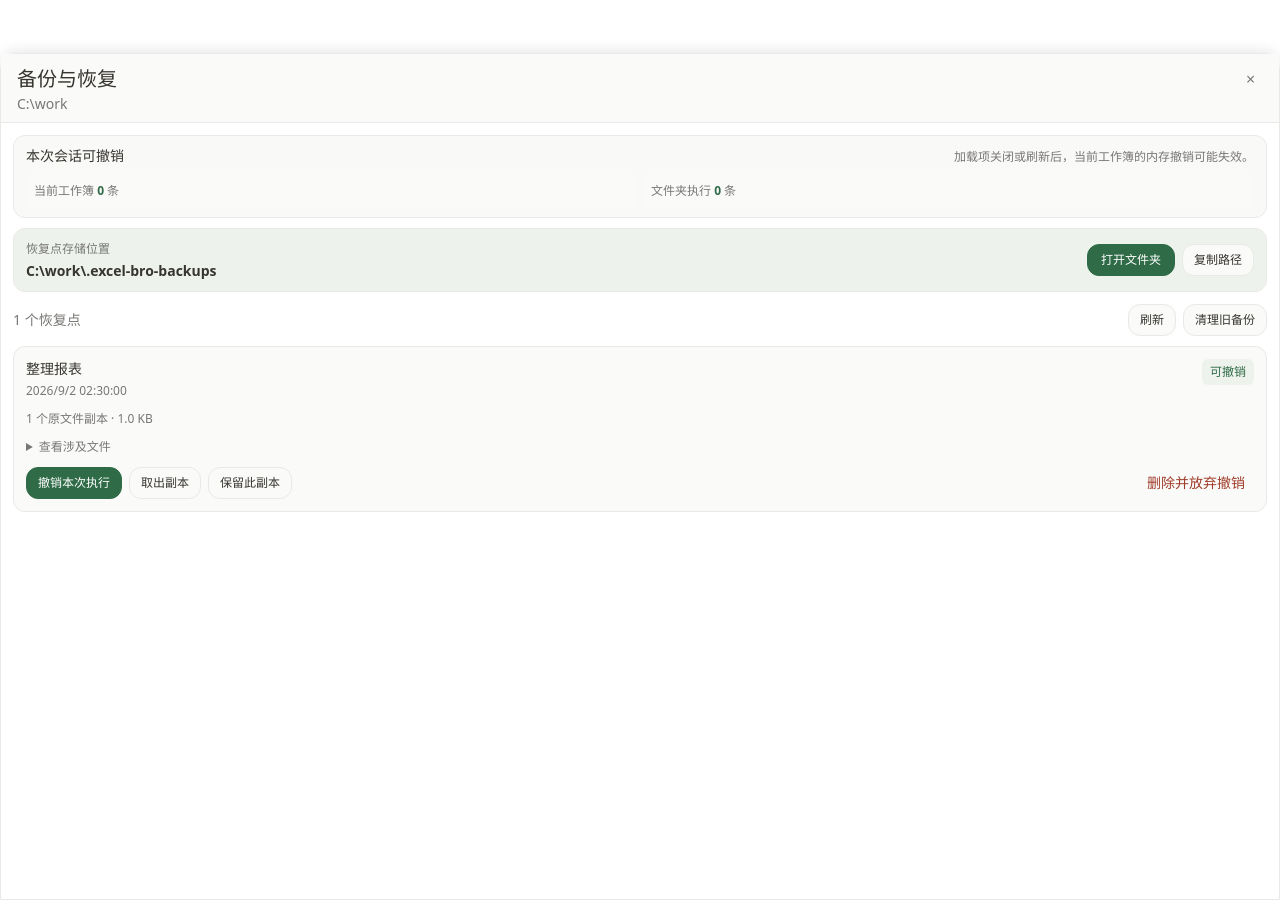
Scenario: FolderBackupManager › can cancel an inline backup deletion confirmation
Click the button "删除并放弃撤销" at (1196, 483), box 1138,467 -> 1254,499
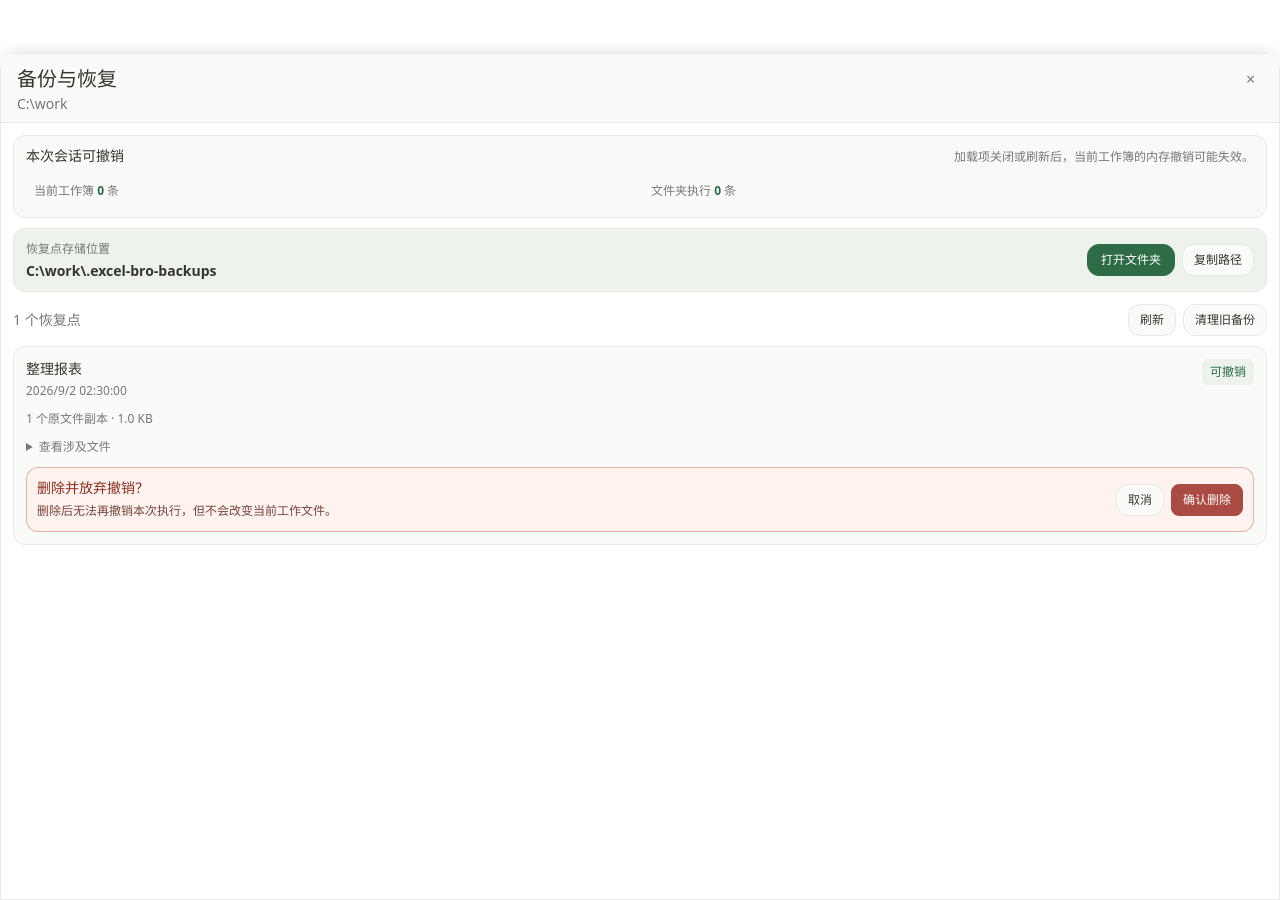
Click the button "取消" at (1140, 500), box 1116,484 -> 1164,516
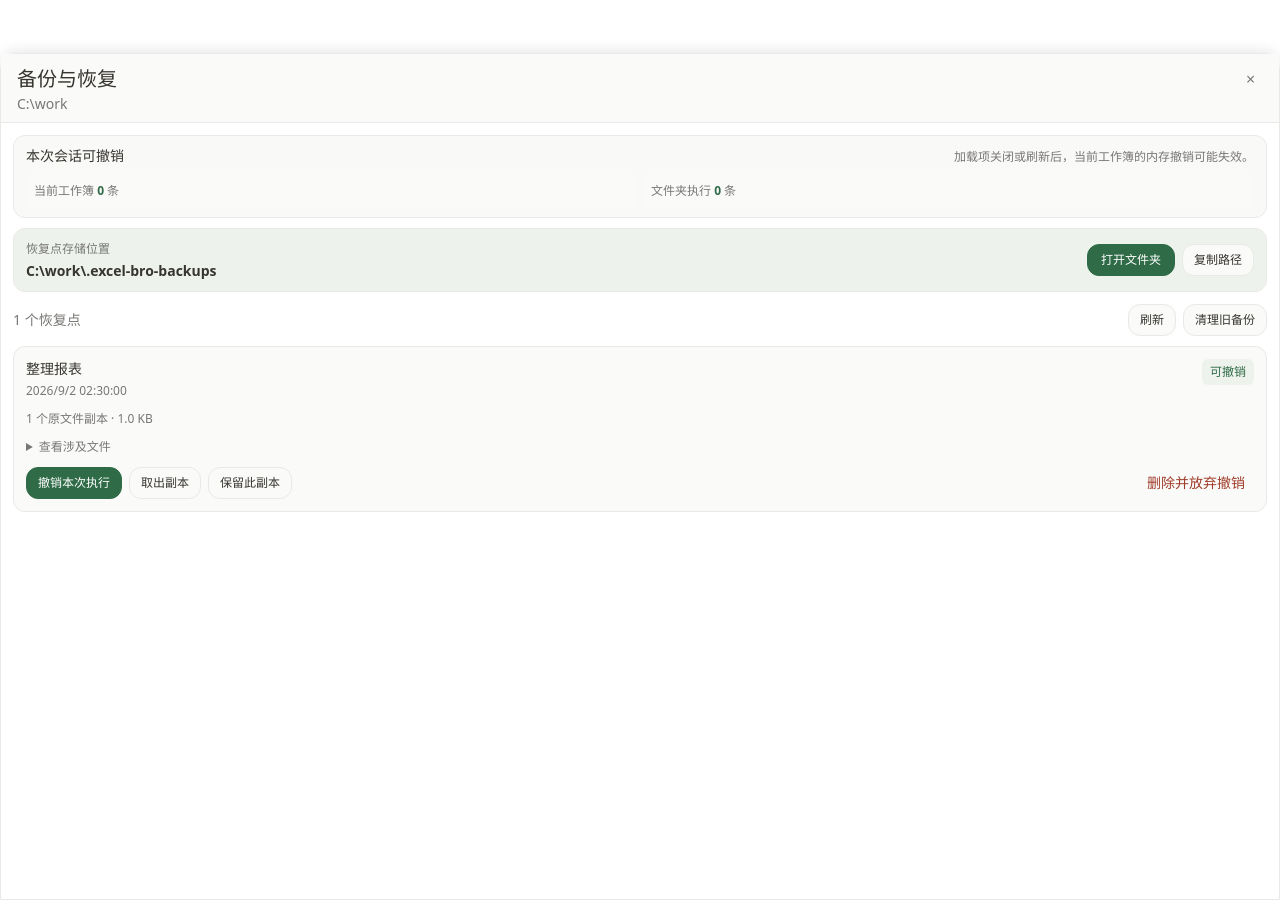
Result: the button "确认删除" is gone
